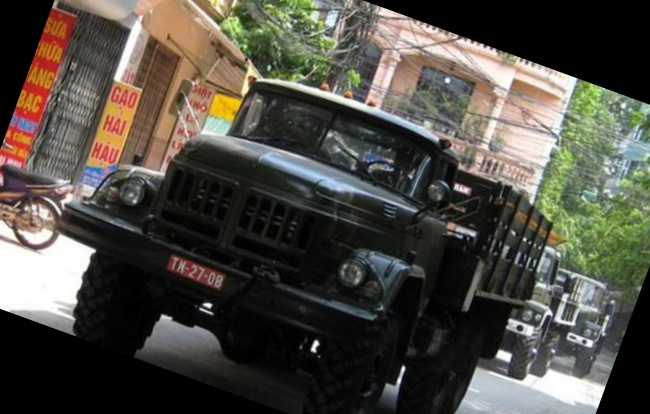plate: (165, 251, 224, 294)
